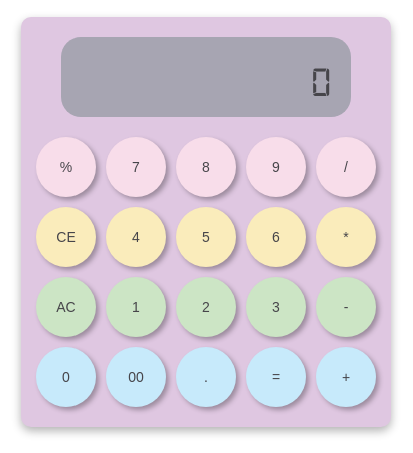
Test case: <App/> component › adding onto an equation after completing an equation
The width and height of the screenshot is (413, 453).
Step 1. Click the button "2" → (206, 307), box [176,277,236,337]
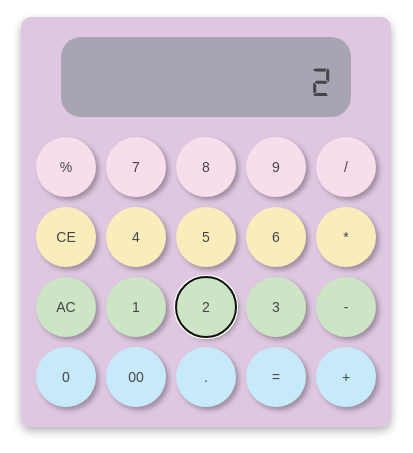
Step 2. Click the button "+" → (346, 377), box [316,347,376,407]
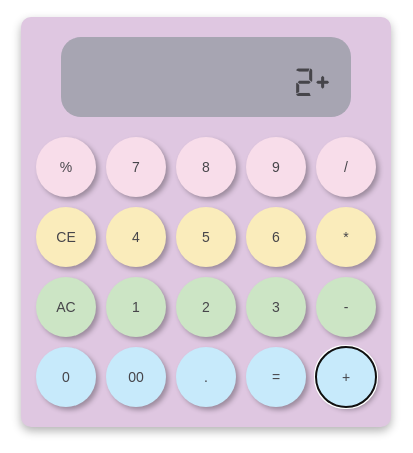
Step 3. Click the button "3" → (276, 307), box [246,277,306,337]
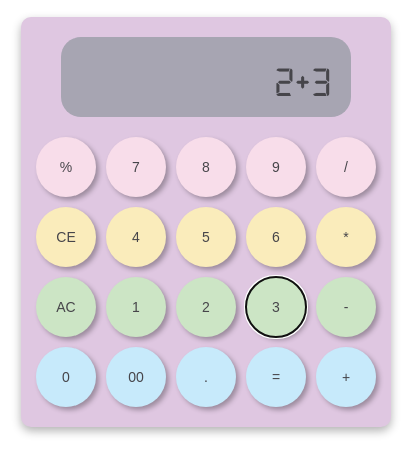
Step 4. Click the button "=" → (276, 377), box [246,347,306,407]
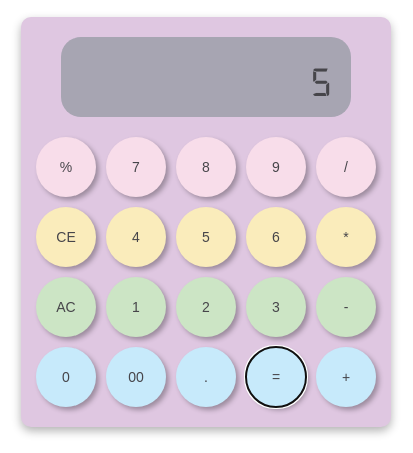
Expected: the message reads "5", [311,65,331,88]
Step 5. Click the button "-" → (346, 307), box [316,277,376,337]
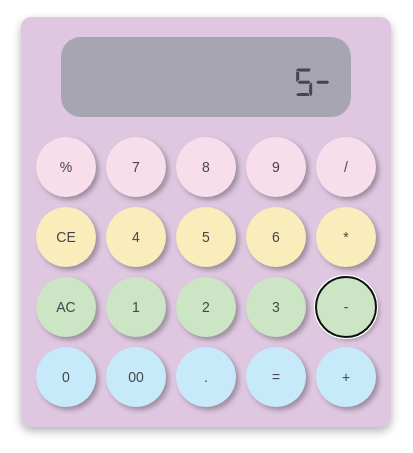
Step 6. Click the button "7" → (136, 167), box [106,137,166,197]
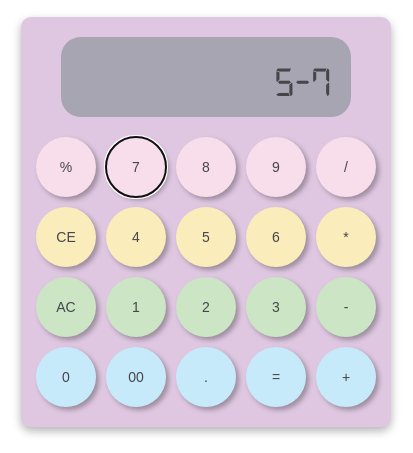
Expected: the message reads "5-7", [274,65,331,88]
